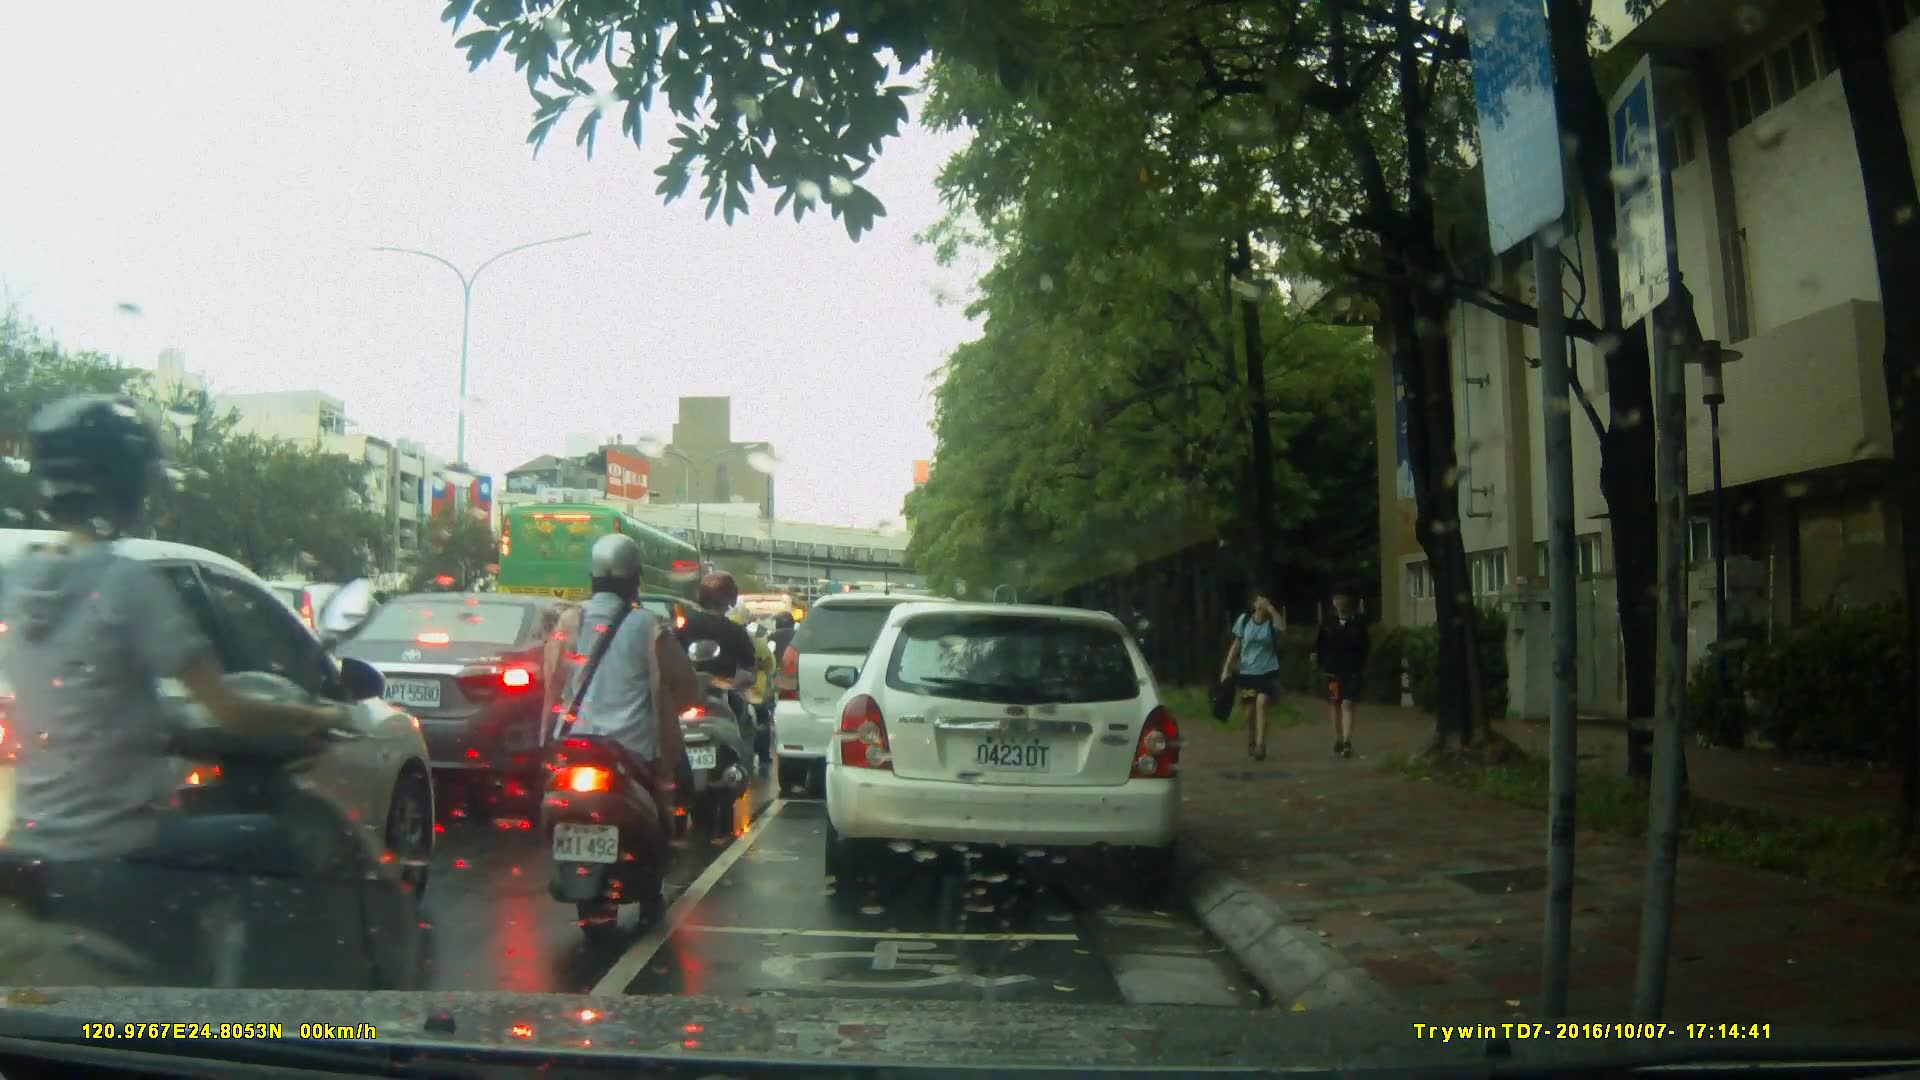pedestrian: (1210, 580, 1316, 764), (1311, 573, 1384, 765), (1123, 596, 1162, 719)
rider: (1, 403, 428, 1080), (534, 535, 691, 939), (654, 571, 754, 821), (710, 601, 773, 769), (760, 610, 813, 745)
vehicle: (1, 528, 446, 987), (831, 592, 1196, 897), (313, 590, 638, 806), (770, 591, 999, 802), (495, 500, 707, 637)
